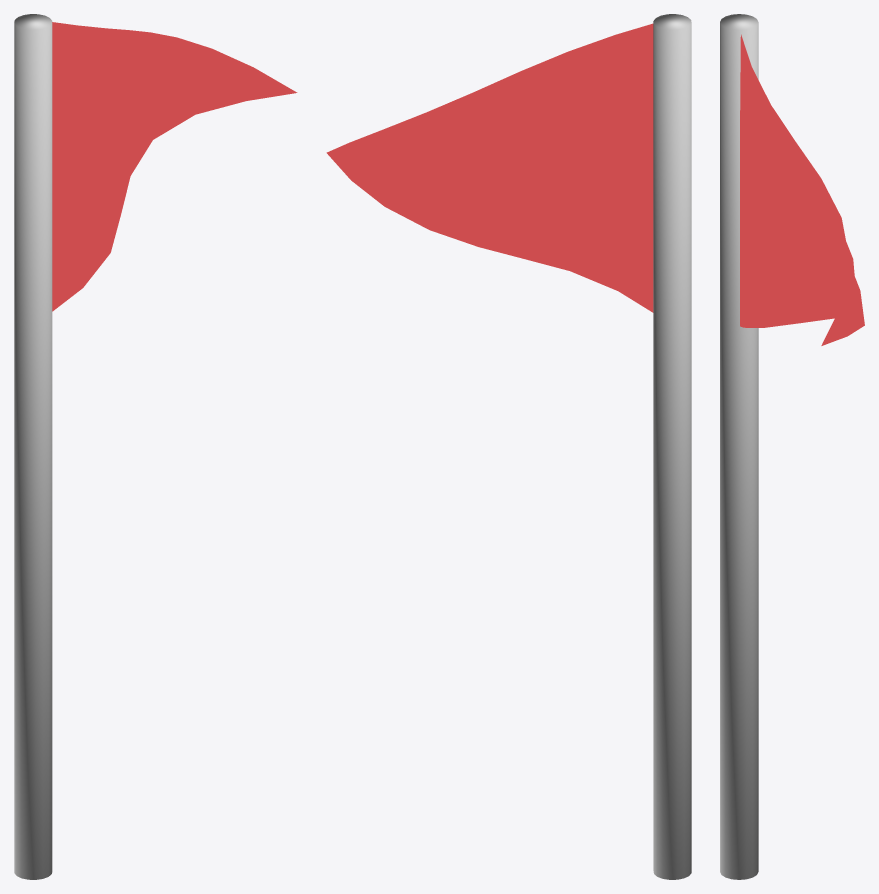
Rendered from flag.glb.
3 views of the same model, side by side, from view 1: azimuth 30°, elevation 25°; view 2: azimuth 150°, elevation 25°; view 3: azimuth 270°, elevation 25° (orthographic).
Visible parts, largest first — view 1: Cylinder, Plane; view 2: Plane, Cylinder; view 3: Cylinder, Plane.
Part boxes in pixels (x1,y1,x2,y2): Cylinder: (14,14,52,879); Plane: (52,22,297,311); Plane: (326,23,653,312); Cylinder: (653,14,691,879); Cylinder: (720,14,758,879); Plane: (740,34,864,345).
Bounding box in the file's own units: 0.4758 × 1.2 × 0.1856.
